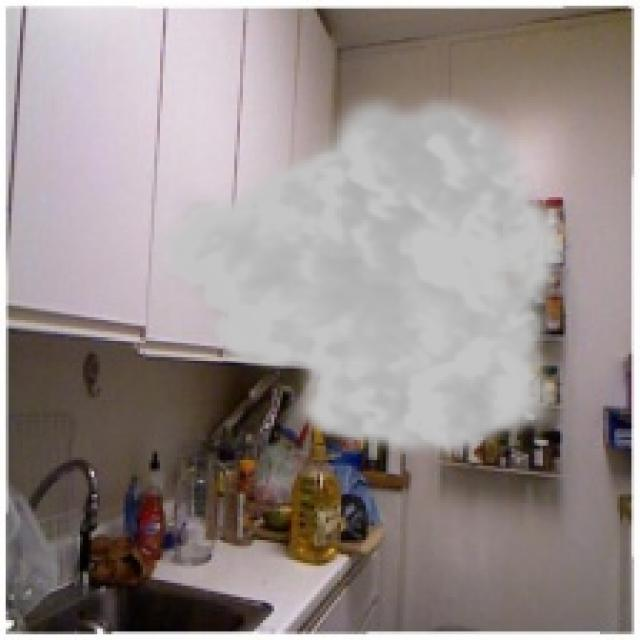smoke: (148, 86, 572, 463)
